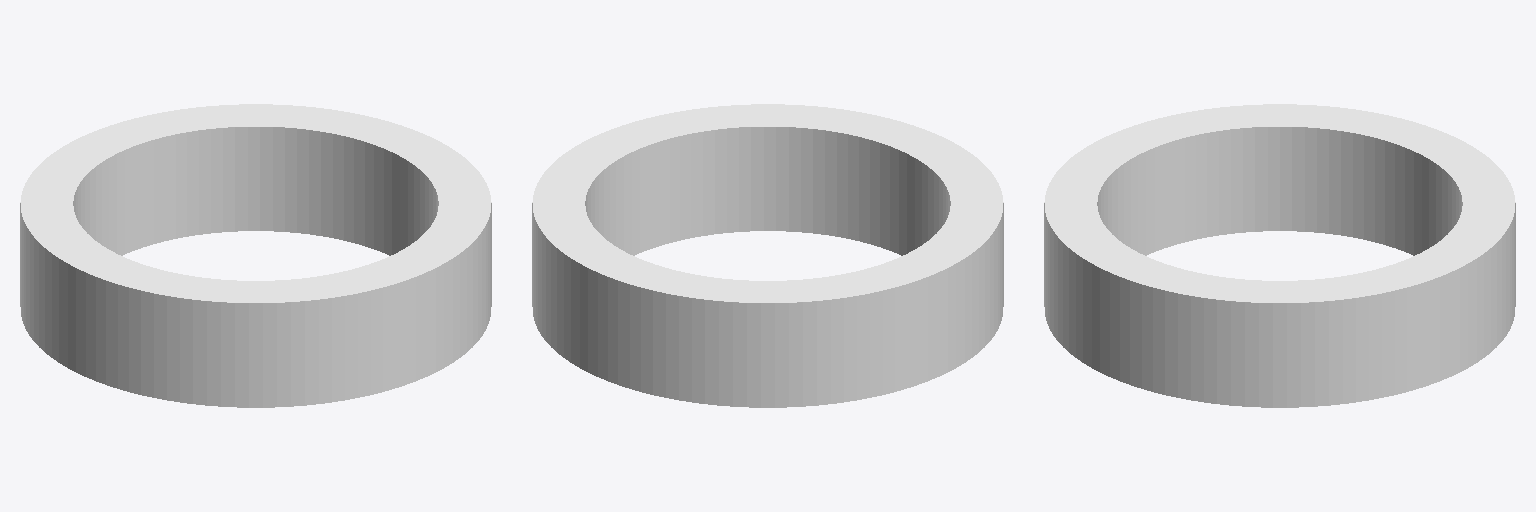
The robot description file, URDF, robot "001_tape":
<robot name="001_tape">
	<link name="_name">
		<visual>
			<origin xyz="0 0 -0.012" rpy="0 0 0" />
			<geometry>
				<mesh filename="001_tape/tape.stl" scale="1 1 1" />
			</geometry>
			<material name="texture">
				<color rgba="1.0 1.0 1.0 1.0" />
			</material>
		</visual>
		<collision>
			<geometry>
				<mesh filename="001_tape/tape.stl" scale="1 1 1" />
			</geometry>
		<origin xyz="0 0 -0.012" rpy="0 0 0" /></collision>
		<inertial>
			<mass value="1.0" />
			<inertia ixx="1.0" ixy="0.0" ixz="0.0" iyy="1.0" iyz="0.0" izz="1.0" />
		</inertial>
	</link>
</robot>

--- Render facts (derived) ---
Views: 3 orthographic renders of the robot side by side, from view 1: azimuth 30°, elevation 25°; view 2: azimuth 150°, elevation 25°; view 3: azimuth 270°, elevation 25°.
Model 001_tape with 1 links and 0 joints (none), rooted at _name, posed all joints at 0.
Visible links, largest first — view 1: _name; view 2: _name; view 3: _name.
Link boxes in pixels (left/top/right/bottom): _name: left=20, top=104, right=491, bottom=407; _name: left=532, top=104, right=1003, bottom=407; _name: left=1044, top=104, right=1515, bottom=407.
Size in the robot's own frame: 0.098 by 0.098 by 0.024 metres.
1 mesh visuals loaded from 1 distinct referenced files (1 binary STL).